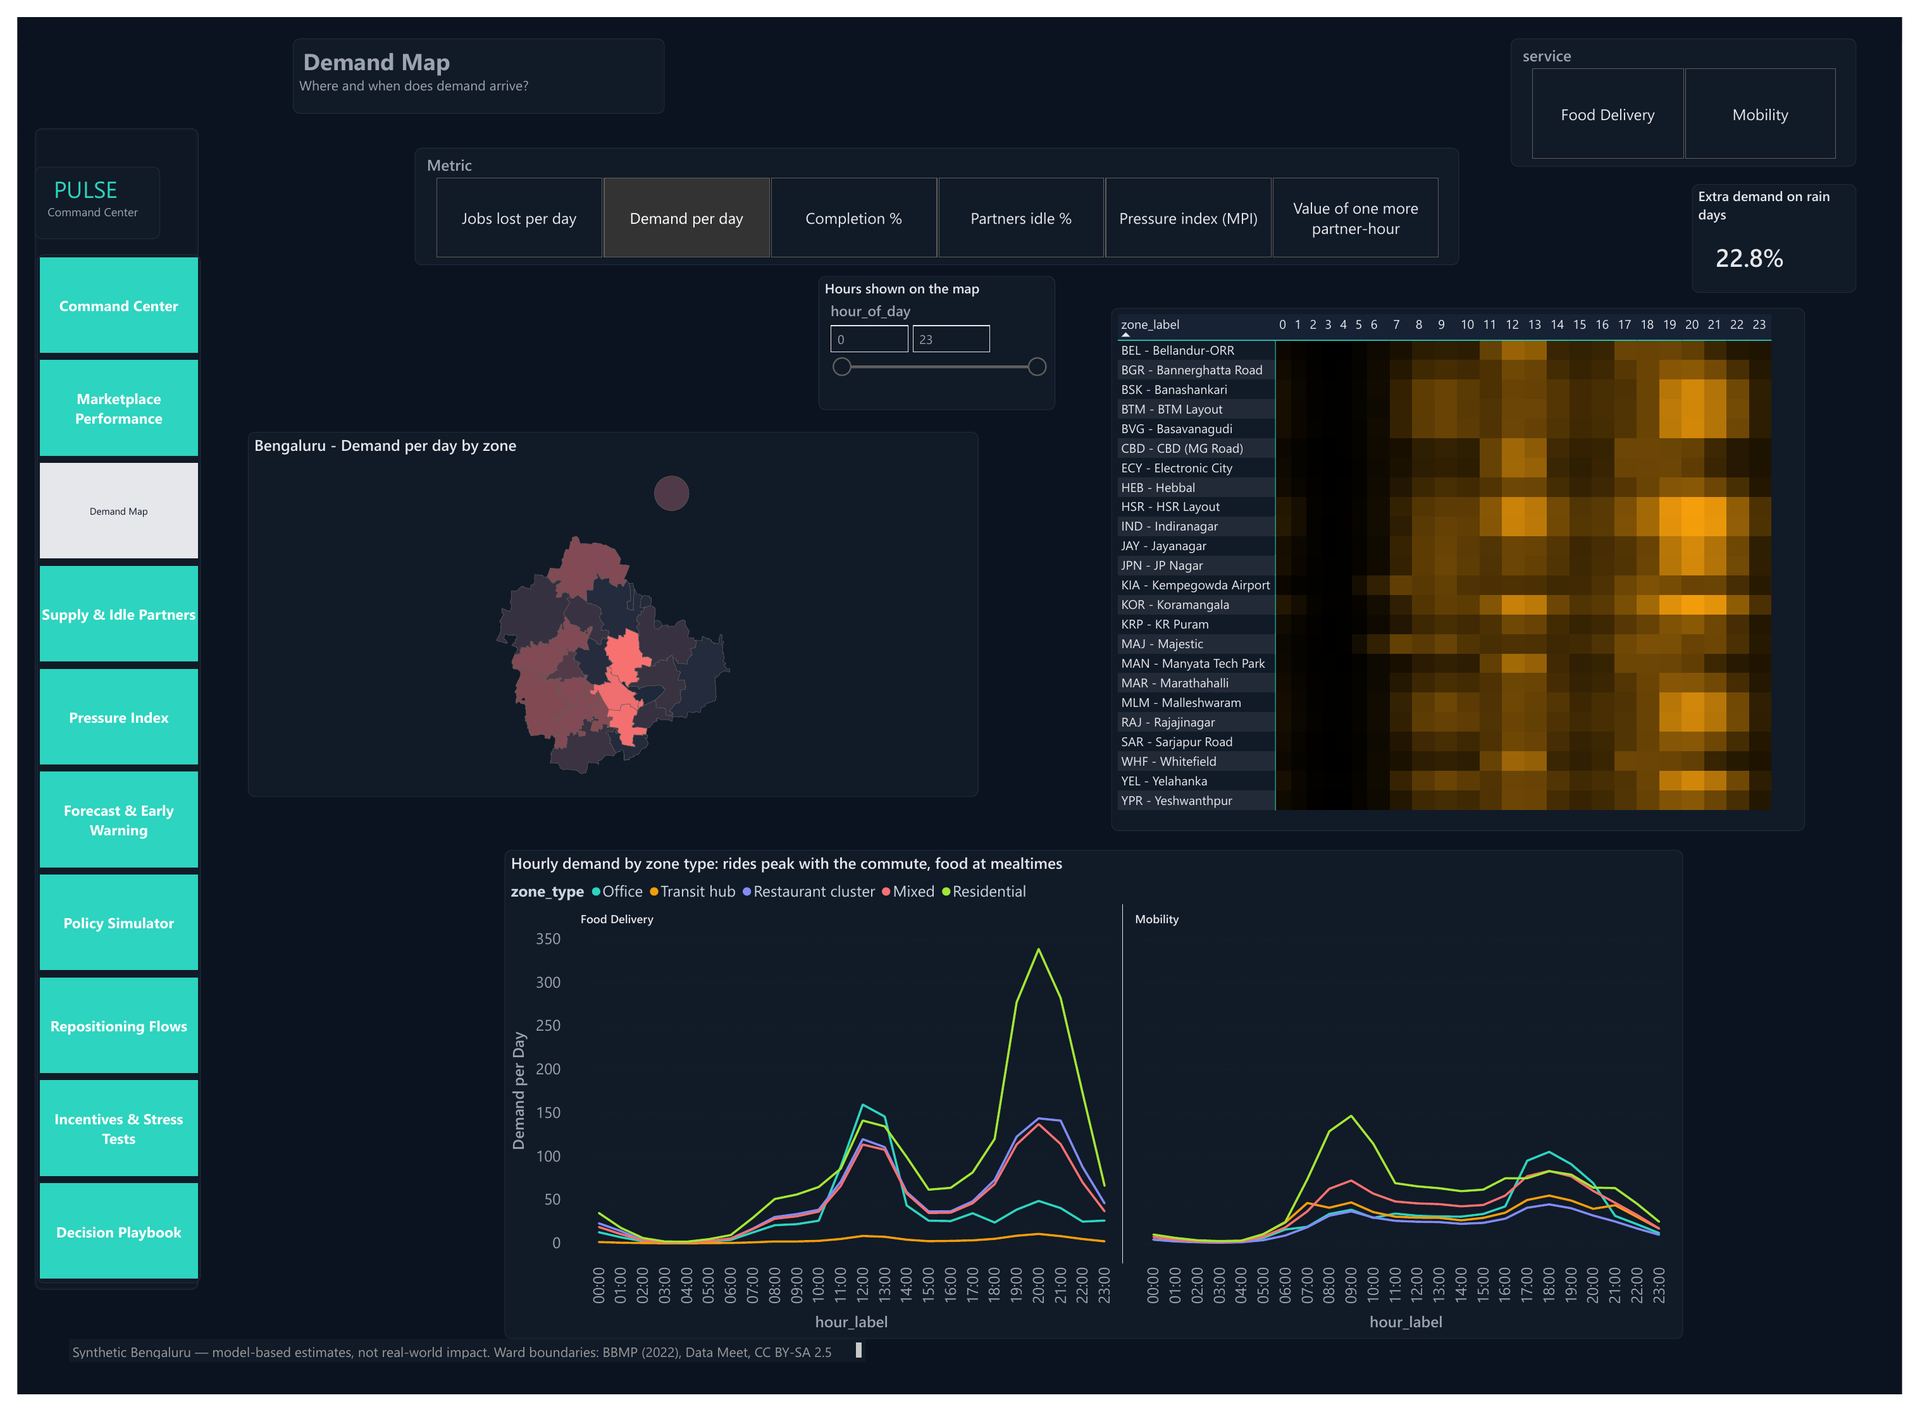

The page's visual inventory and layout, read from the dashboard file:
{"tool":"powerbi","page":{"name":"Demand Map","canvas":[2600,1900],"ordinal":2},"visuals":[{"type":"shape","box":[23.6,153.2,226.9,1603],"z":0},{"type":"textbox","box":[23.6,206.3,173.9,100.2],"z":1000},{"type":"pageNavigator","box":[53,327.1,117.9,29.5],"z":2000},{"type":"textbox","box":[380.1,29.5,512.7,103.1],"z":3000},{"type":"textbox","box":[70.7,1824,1099.1,32.4],"z":4000},{"type":"slicer","fields":{"Values":["Dim_Service.service_name"]},"box":[2059.7,29.5,477.4,176.8],"z":5000},{"type":"slicer","fields":{"Values":["Map Metric.Metric"]},"box":[548.1,179.7,1440.9,162.1],"z":6000},{"type":"shapeMap","fields":{"Category":["Dim_Zone.zone_code"],"Value":["_Measures.Map Value"]},"box":[318.2,571.7,1007.8,503.9],"z":7000},{"type":"slicer","title":"Hours shown on the map","fields":{"Values":["Dim_Time.hour_of_day"]},"box":[1105,356.5,327.1,185.6],"z":8000},{"type":"pivotTable","fields":{"Rows":["Dim_Zone.zone_label"],"Values":["_Measures.Demand per Day"],"Columns":["Dim_Time.hour_of_day"]},"box":[1508.7,400.7,957.7,721.9],"z":9000},{"type":"lineChart","title":"Hourly demand by zone type: rides peak with the commute, food at mealtimes","fields":{"Category":["Dim_Time.hour_label"],"Y":["_Measures.Demand per Day"],"Series":["Dim_Zone.zone_type"],"Rows":["Dim_Service.service_name"]},"box":[671.8,1149.2,1626.6,674.8],"z":10000},{"type":"cardVisual","title":"Extra demand on rain days","fields":{"Data":["_Measures.Rain Demand Uplift %"]},"box":[2310.2,229.8,226.9,150.3],"z":11000},{"type":"pageNavigator","box":[26.5,327.1,226.9,1420.3],"z":12001}]}

Visuals, with their boxes in screenshot pixels (x1, y1, x2, y2), scaled from the page's 2600x1900 canvas onto the 1920x1412 screenshot:
shape: [17, 114, 185, 1305]
textbox: [17, 153, 146, 228]
pageNavigator: [39, 243, 126, 265]
textbox: [281, 22, 659, 99]
textbox: [52, 1356, 864, 1380]
slicer - Dim_Service.service_name: [1521, 22, 1874, 153]
slicer - Map Metric.Metric: [405, 134, 1469, 254]
shapeMap - Dim_Zone.zone_code x _Measures.Map Value: [235, 425, 979, 799]
"Hours shown on the map" slicer: [816, 265, 1058, 403]
pivotTable - Dim_Zone.zone_label x _Measures.Demand per Day: [1114, 298, 1821, 834]
"Hourly demand by zone type: rides peak with the commute, food at mealtimes" lineChart: [496, 854, 1697, 1356]
"Extra demand on rain days" cardVisual: [1706, 171, 1874, 282]
pageNavigator: [20, 243, 187, 1299]
